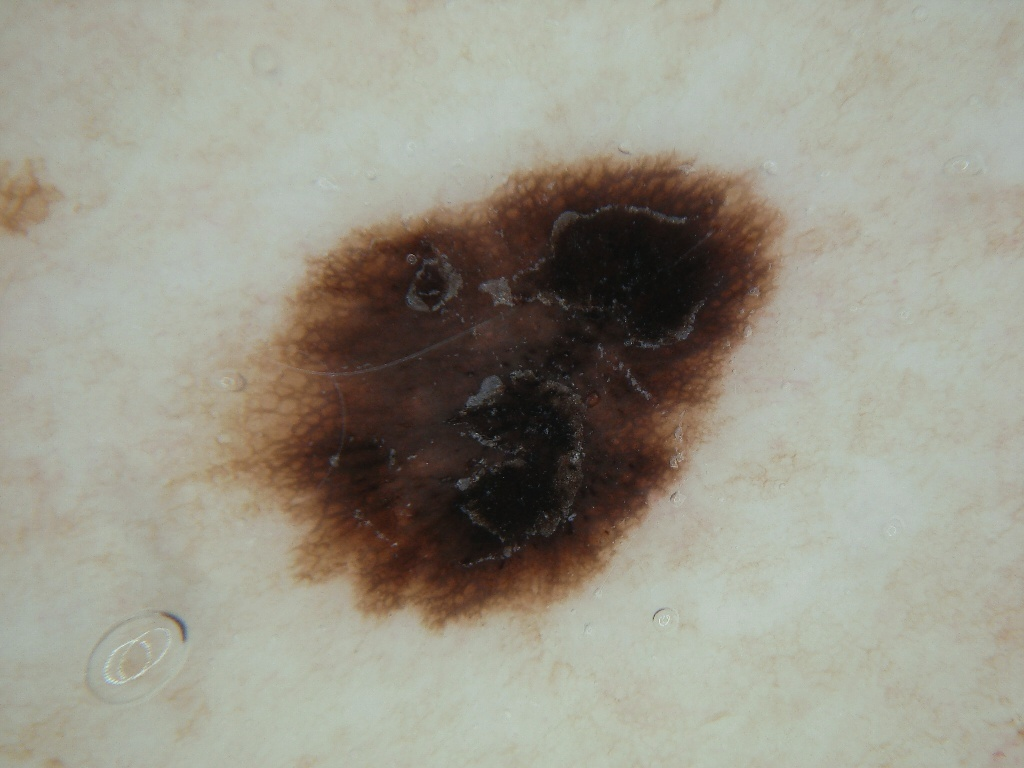Detected Lesion: (204, 144, 791, 636)
